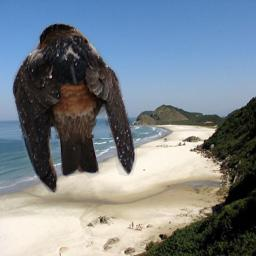Swallow: (12, 23, 137, 194)
